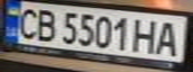0: (93, 14, 115, 50)
1: (109, 14, 133, 52)
5: (57, 9, 81, 46), (75, 11, 96, 47)
A: (151, 18, 184, 56)
B: (30, 6, 60, 43)
C: (12, 5, 42, 39)
H: (130, 16, 163, 54)
